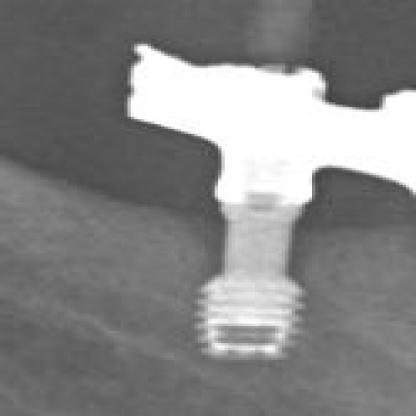Bicon: (156, 228, 346, 392)
